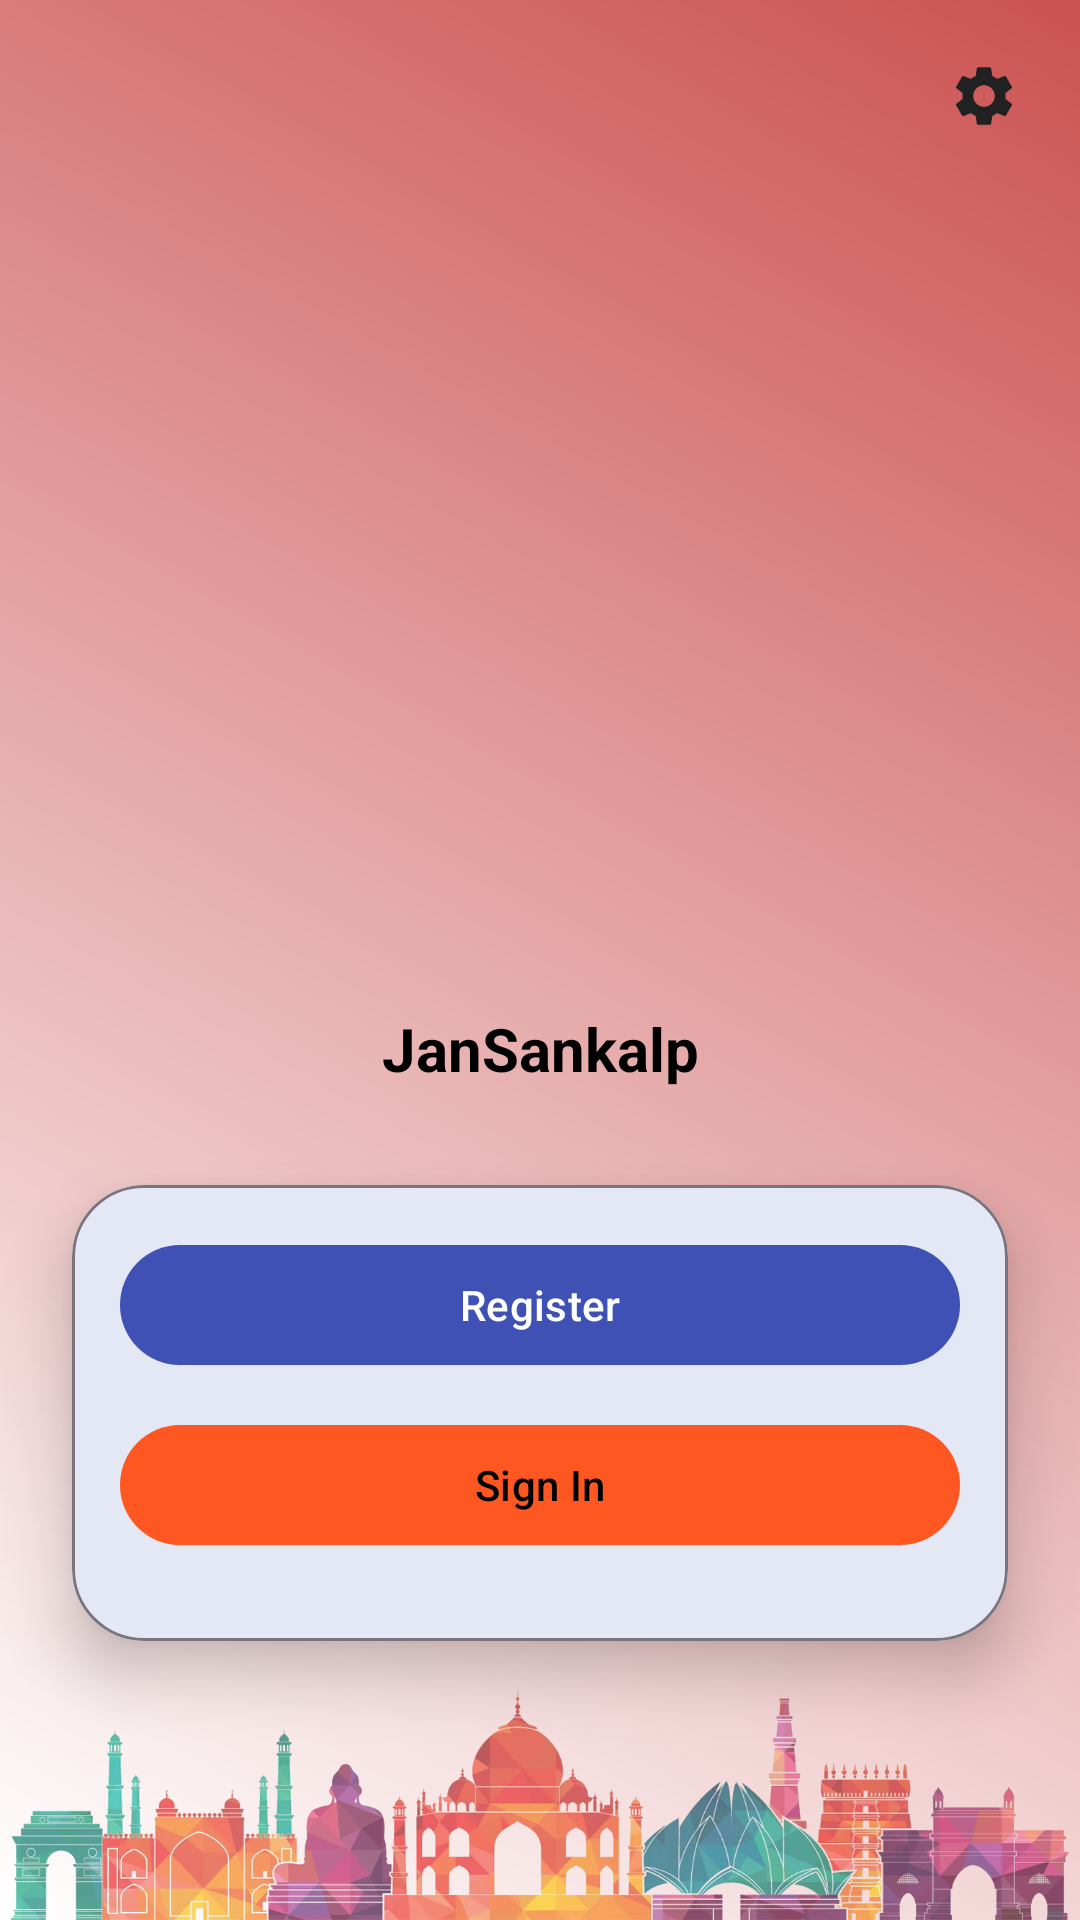

Icons on this 1080px×1920px Android screen, each with the point to tap as [x,y]:
Settings: [984,96]
